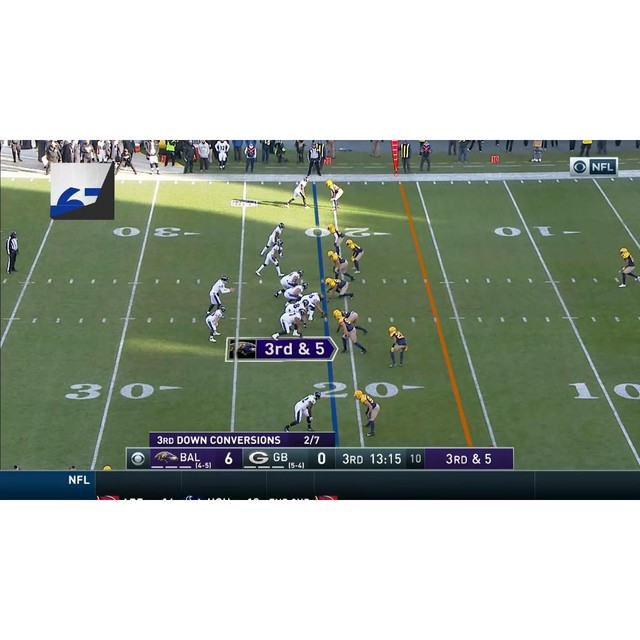american-football-player: (283, 392, 321, 432), (333, 313, 368, 354), (354, 389, 380, 437), (255, 239, 286, 276), (206, 274, 232, 315), (273, 306, 306, 338), (617, 247, 640, 287), (333, 309, 368, 334), (274, 268, 303, 298), (327, 250, 354, 282), (259, 223, 284, 257), (388, 326, 407, 368), (298, 291, 324, 321), (206, 304, 227, 341), (286, 176, 309, 208), (282, 280, 309, 306), (325, 277, 352, 301), (346, 238, 363, 273), (327, 223, 343, 257), (327, 180, 344, 211)
referee: (5, 229, 19, 274), (306, 141, 323, 178)
